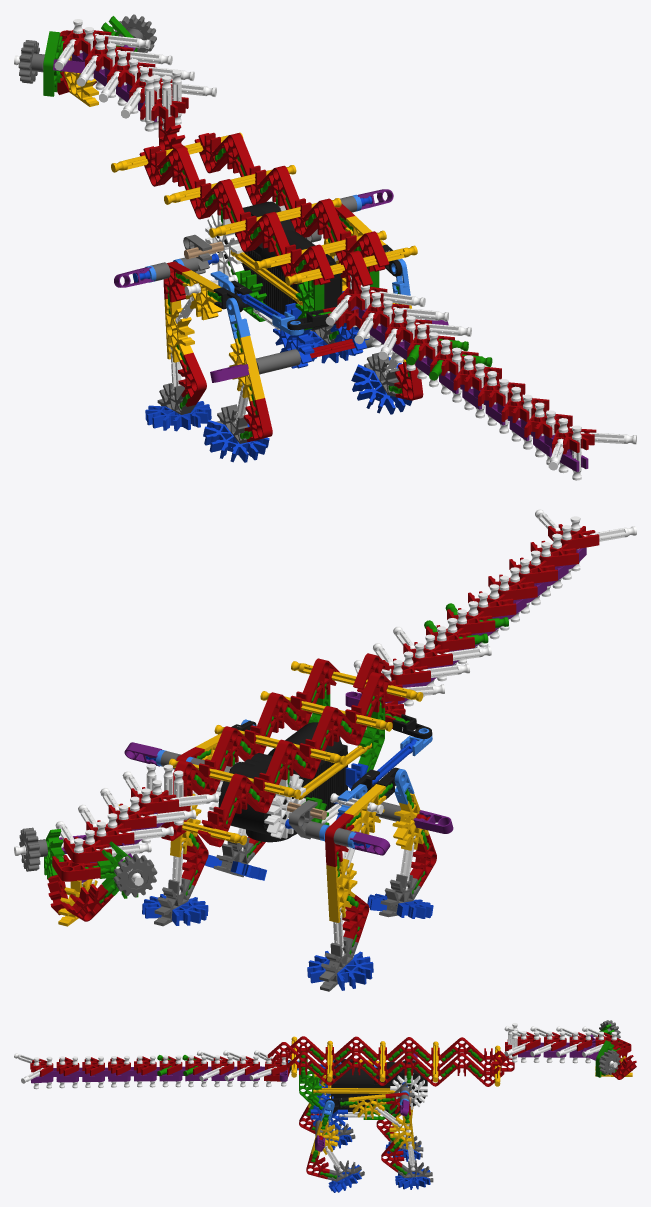
3 views of the same model, one above another, from view 1: azimuth 30°, elevation 25°; view 2: azimuth 150°, elevation 25°; view 3: azimuth 270°, elevation 25° (orthographic). The views are drawn at different scales.
Visible parts, largest first — view 1: S2_L25.004, S2_L25.001, S2_L25.005, S2_L25.003, S2_L25.009, S2_L25.002, S2_L25.008, S2_L25.006, S2_L25; view 2: S2_L25.004, S2_L25.001, S2_L25.005, S2_L25.009, S2_L25.002, S2_L25.003, S2_L25.006, S2_L25.008, S2_L25; view 3: S2_L25.004, S2_L25.001, S2_L25.005, S2_L25.002, S2_L25.008, S2_L25.009, S2_L25.003, S2_L25.006.
Boxes of the visible parts, x1=… form: S2_L25.004: x1=57, y1=29, x2=596, y2=454; S2_L25.001: x1=14, y1=19, x2=636, y2=480; S2_L25.005: x1=64, y1=56, x2=417, y2=401; S2_L25.003: x1=133, y1=196, x2=412, y2=462; S2_L25.009: x1=18, y1=14, x2=399, y2=443; S2_L25.002: x1=43, y1=16, x2=492, y2=438; S2_L25.008: x1=53, y1=45, x2=588, y2=471; S2_L25.006: x1=213, y1=201, x2=401, y2=330; S2_L25: x1=210, y1=258, x2=410, y2=339; S2_L25.004: x1=47, y1=524, x2=599, y2=942; S2_L25.001: x1=14, y1=509, x2=636, y2=956; S2_L25.005: x1=58, y1=661, x2=429, y2=926; S2_L25.009: x1=19, y1=751, x2=420, y2=991; S2_L25.002: x1=44, y1=603, x2=508, y2=954; S2_L25.003: x1=142, y1=739, x2=433, y2=990; S2_L25.006: x1=218, y1=714, x2=432, y2=842; S2_L25.008: x1=59, y1=547, x2=586, y2=882; S2_L25: x1=241, y1=719, x2=432, y2=813; S2_L25.004: x1=30, y1=1032, x2=636, y2=1179; S2_L25.001: x1=14, y1=1023, x2=617, y2=1172; S2_L25.005: x1=291, y1=1036, x2=632, y2=1155; S2_L25.002: x1=157, y1=1024, x2=620, y2=1178; S2_L25.008: x1=30, y1=1034, x2=599, y2=1151; S2_L25.009: x1=315, y1=1020, x2=620, y2=1182; S2_L25.003: x1=310, y1=1064, x2=430, y2=1192; S2_L25.006: x1=288, y1=1059, x2=427, y2=1113.
Bounding box in the file's own units: 1.75 × 1.63 × 6.1.
